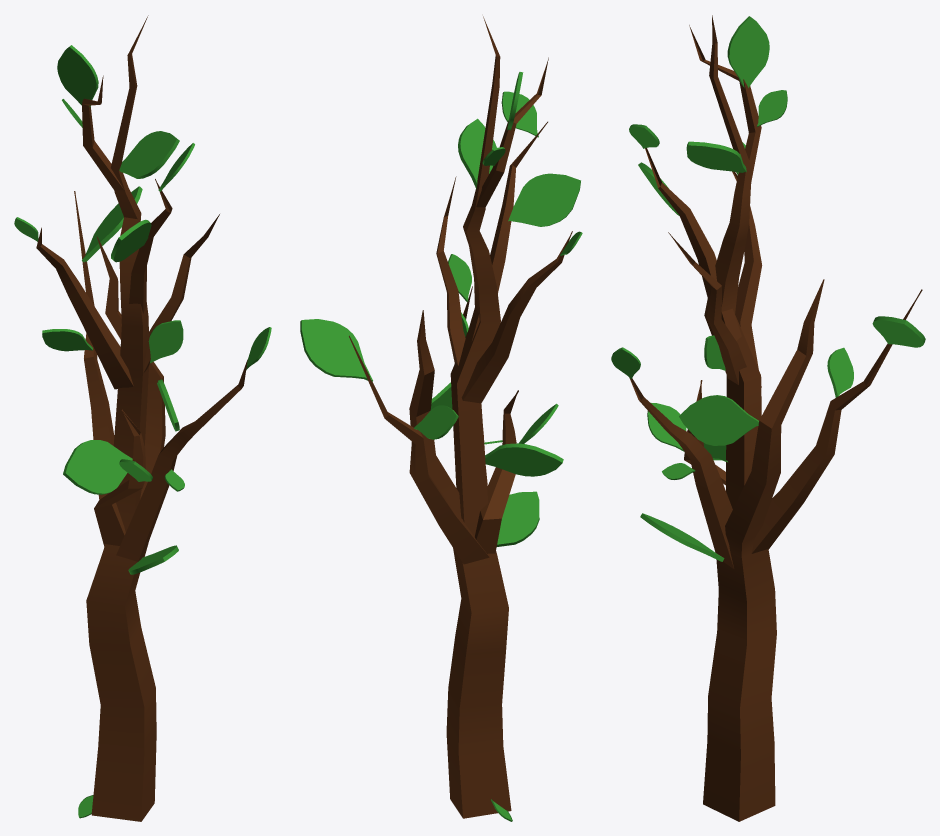
File: SmallTree.fbx
3 views of the same model, side by side, from view 1: azimuth 30°, elevation 25°; view 2: azimuth 150°, elevation 25°; view 3: azimuth 270°, elevation 25° (orthographic). The views are drawn at different scales.
Visible parts, largest first — view 1: 克隆_1; view 2: 克隆_1; view 3: 克隆_1.
Part boxes in pixels (x1,y1,x2,y2): 克隆_1: [14, 15, 271, 821]; 克隆_1: [300, 16, 582, 821]; 克隆_1: [611, 15, 925, 821].
Size of the model in its own units: 5.42 by 20 by 7.12.
